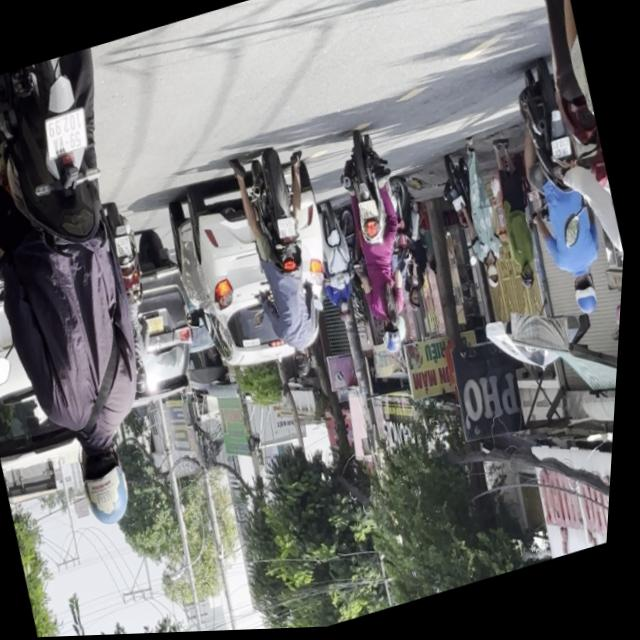helmet: (74, 433, 145, 533), (572, 275, 606, 322), (380, 320, 410, 359)
licenseplate: (0, 43, 218, 554), (488, 0, 640, 392), (491, 55, 632, 332), (217, 142, 352, 395), (320, 126, 442, 366)
motorcyclist: (294, 347, 322, 384)
nohelmet: (41, 108, 93, 160), (552, 140, 575, 164), (277, 217, 299, 241), (115, 235, 136, 258), (359, 201, 380, 223)
